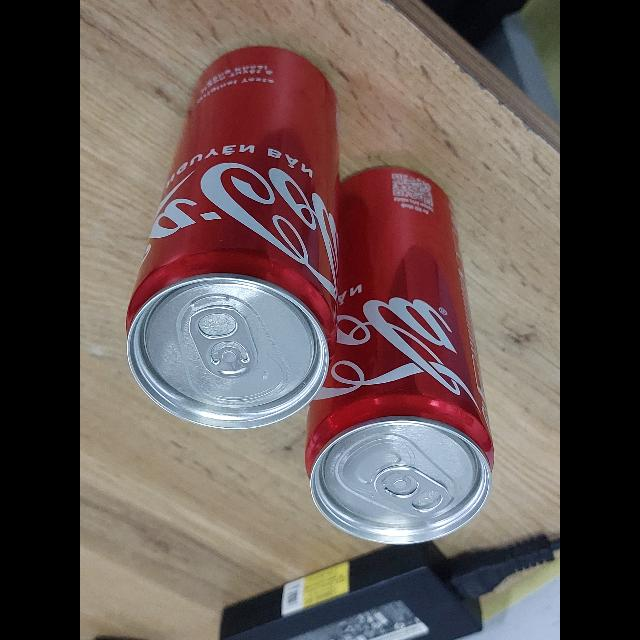coca_cola: (125, 42, 340, 430), (304, 164, 495, 544)
